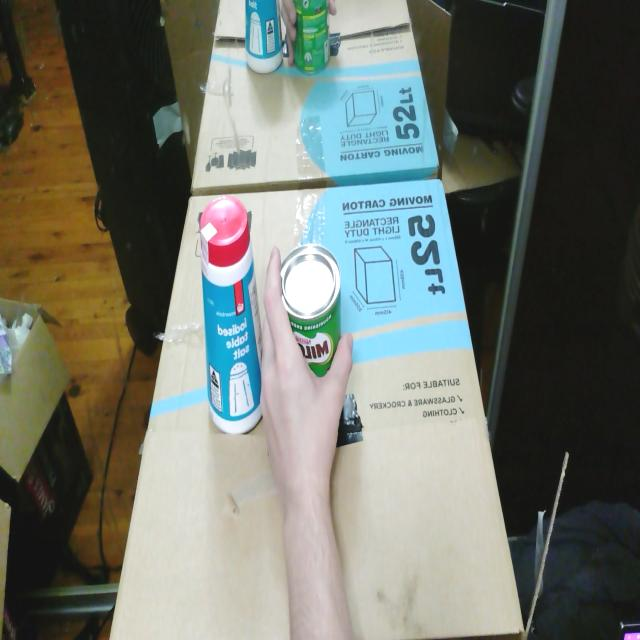nestle_milo_tin: (281, 244, 341, 377)
woolworths_salt_bottle: (200, 195, 262, 434)
